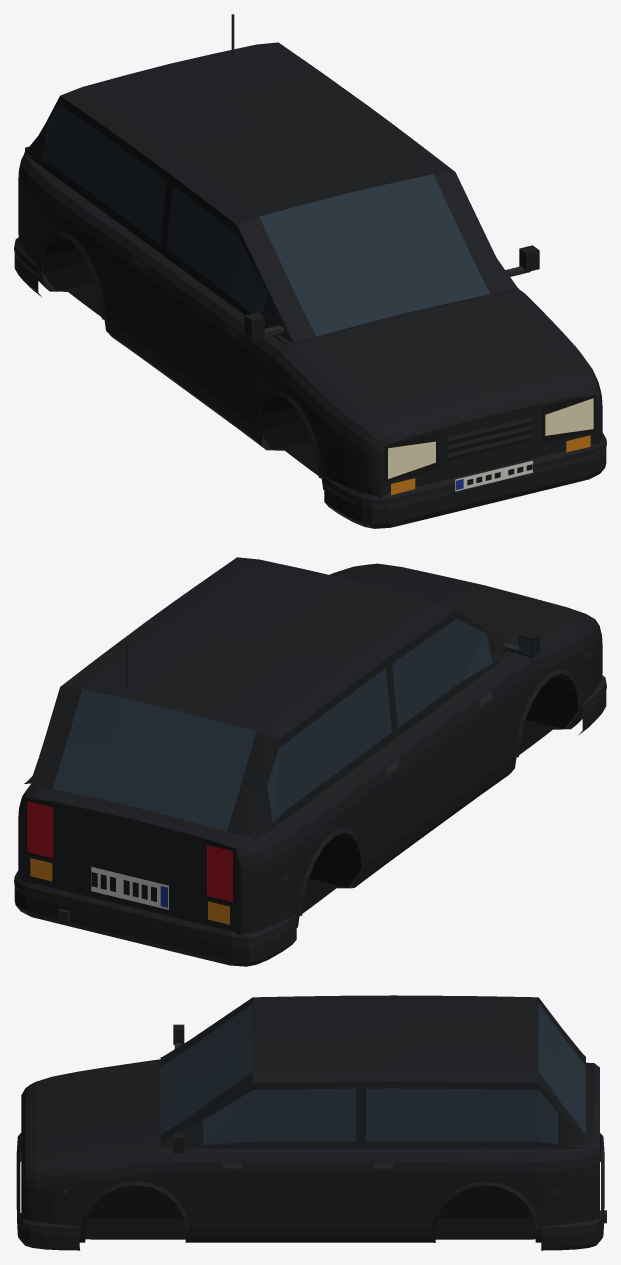
Rendered from volkswagen-golf.glb.
The picture shows the model from 3 angles, top to bottom: view 1: azimuth 30°, elevation 25°; view 2: azimuth 150°, elevation 25°; view 3: azimuth 270°, elevation 25°; orthographic projection. The views are drawn at different scales.
Parts seen in each view (by area): view 1: LOD0, door_FR, door_RR; view 2: LOD0, door_FR, door_RR; view 3: LOD0, door_FL, door_RL.
Boxes of the visible parts, <box> form: LOD0: <box>14,14,606,528</box>; door_FR: <box>152,176,275,441</box>; door_RR: <box>73,119,166,362</box>; LOD0: <box>14,557,606,966</box>; door_FR: <box>391,610,514,846</box>; door_RR: <box>312,660,406,880</box>; LOD0: <box>16,995,606,1250</box>; door_FL: <box>189,1081,359,1238</box>; door_RL: <box>362,1081,483,1238</box>.
Size of what is drawn, in the model's own units: 1.92 by 1.59 by 4.25.
